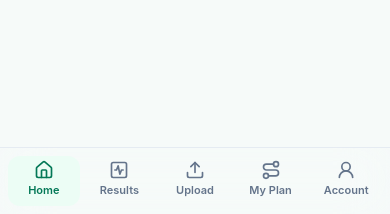
Test case: MobileBottomBar › opens My Plan with Action Plan / Protocol and Lab Plan access
The width and height of the screenshot is (390, 214).
Click the button "My Plan": (271, 181) [235,156,306,206]
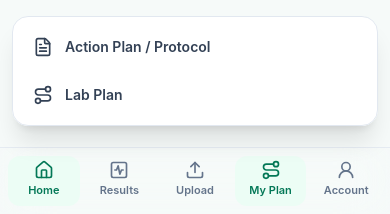
expect the menu named "My Plan menu" is shown: met, box [21,25,369,117]
expect the menu item "Action Plan / Protocol" is shown: met, box [21,25,369,69]
expect the menu item "Lab Plan" is shown: met, box [21,73,369,117]
